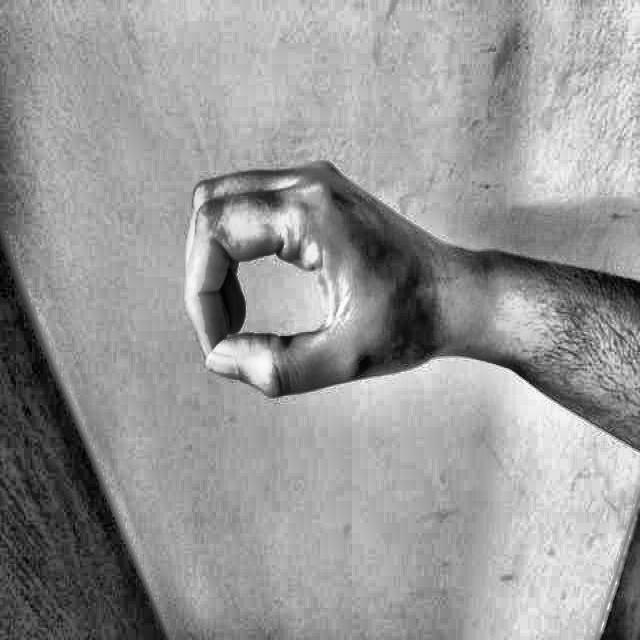O: (162, 121, 445, 426)
